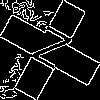Z: (25, 25, 73, 79)
